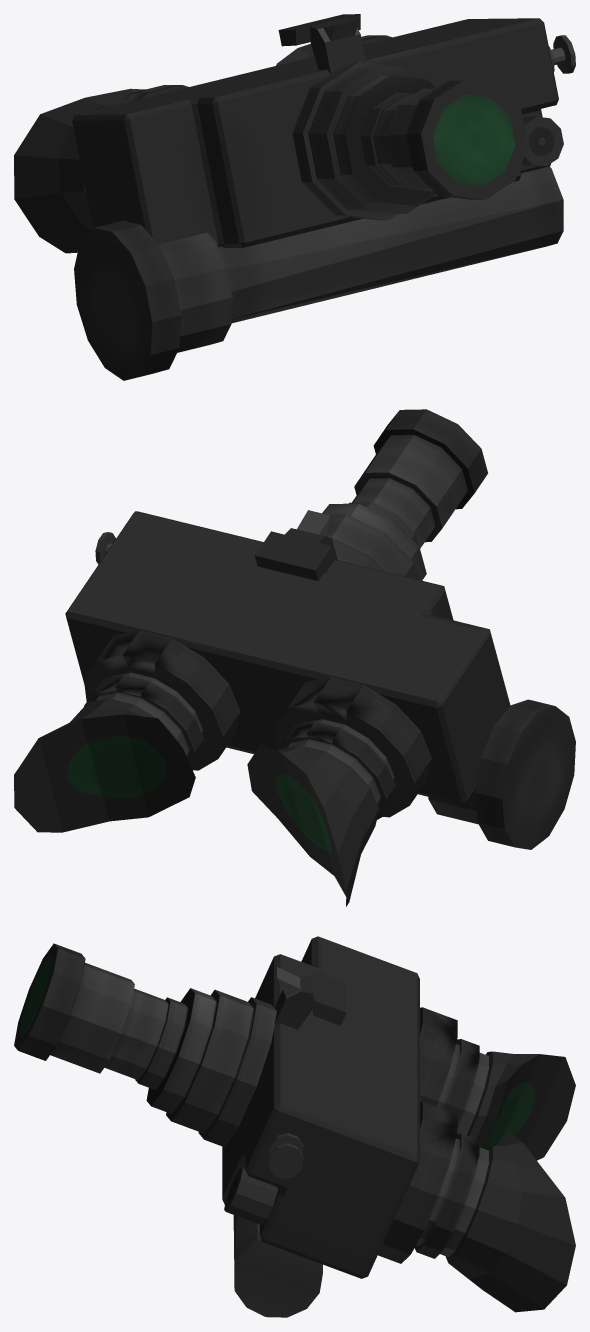
Rendered from NVG_WorldItem.fbx.
3 renders of one model, top to bottom at view 1: azimuth 30°, elevation 25°; view 2: azimuth 150°, elevation 25°; view 3: azimuth 270°, elevation 25°, orthographic. The views are drawn at different scales.
Visible parts, largest first — view 1: Cylinder.010; view 2: Cylinder.010; view 3: Cylinder.010.
Boxes of the visible parts, left/top/right/bottom form: Cylinder.010: left=14, top=14, right=575, bottom=380; Cylinder.010: left=14, top=409, right=575, bottom=906; Cylinder.010: left=14, top=936, right=575, bottom=1317.
Size of the model in its own units: 0.2467 by 0.1649 by 0.275.
